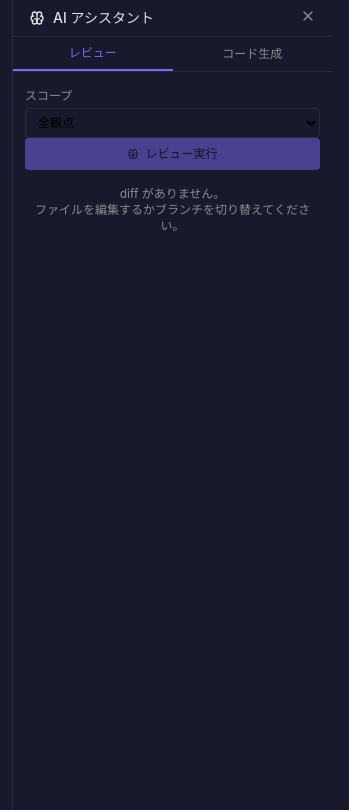
AiAssistant › 「コード生成」タブ: currentFilePath ありのとき生成ボタンが有効
The image size is (349, 810).
Click the button "コード生成": (252, 54) [172,37,332,71]
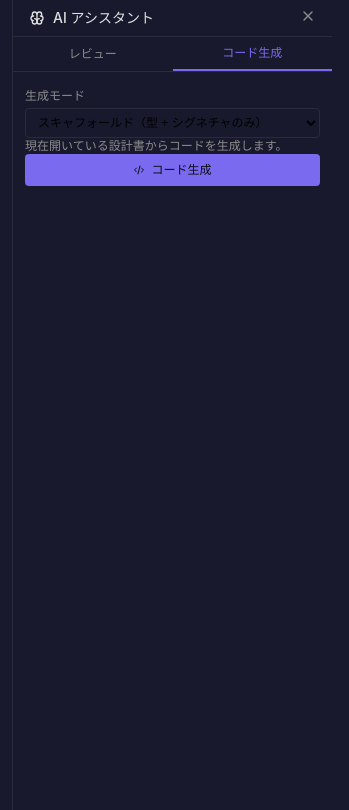
Now the button "コード生成" below "現在開いている設計書からコードを生成します。" is enabled, box [25,154,320,186]
